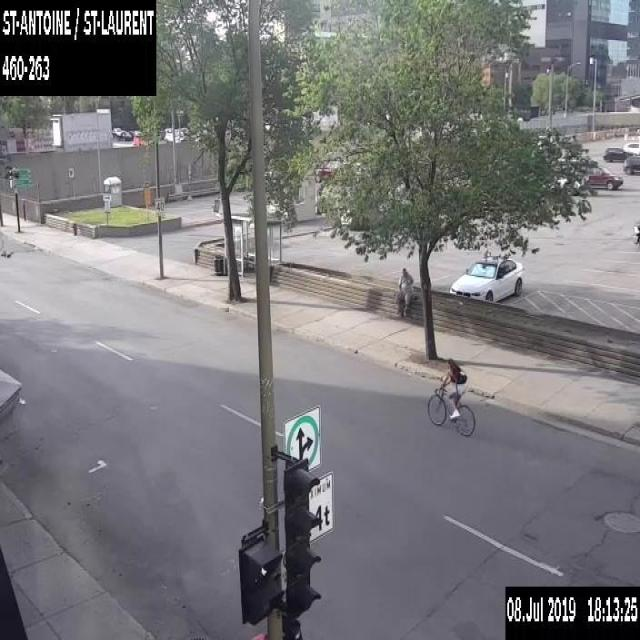cyclist: (424, 356, 476, 437)
pedestrian: (394, 266, 414, 322)
vehicle: (448, 255, 524, 302), (584, 165, 623, 189), (316, 158, 344, 181), (602, 145, 636, 162), (623, 154, 639, 173), (622, 140, 639, 154), (633, 220, 639, 244), (117, 130, 131, 140), (131, 129, 142, 136), (112, 126, 121, 134)
